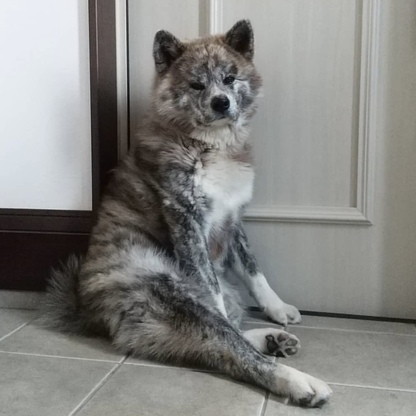akita: (24, 13, 338, 416)
